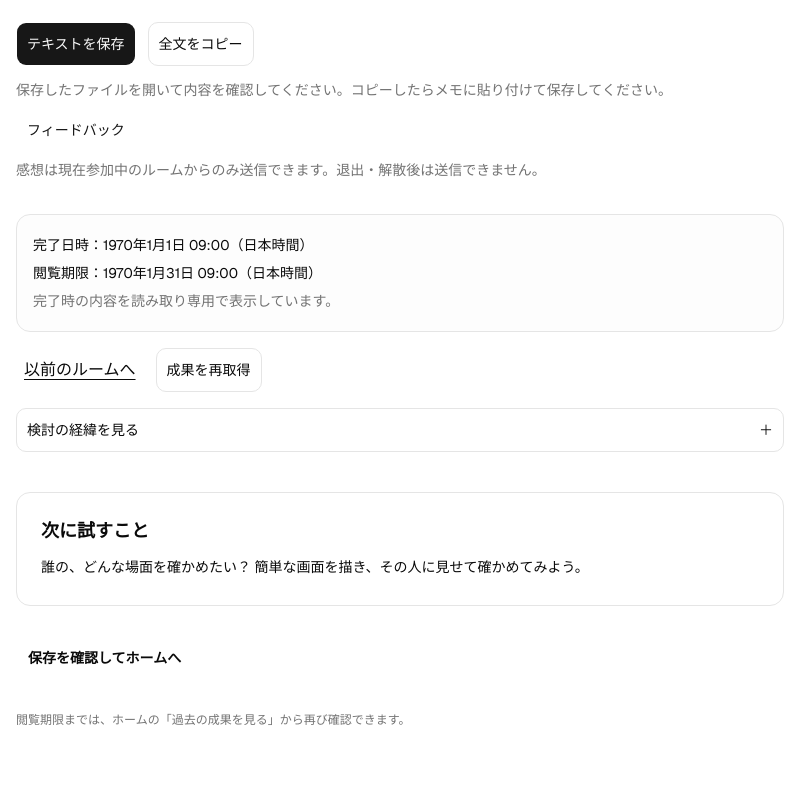
Scenario: 本人の完了ルーム › 3件を先に表示し、経緯を閉じ、通信の遅い旧選択で現在の本文を上書きしない
Check: the button "全文をコピー" is enabled, box x1=148 y1=22 x2=254 y2=66
Click the button "検討の経緯を見る ＋".
click(83, 430)  # box x1=16 y1=408 x2=784 y2=452
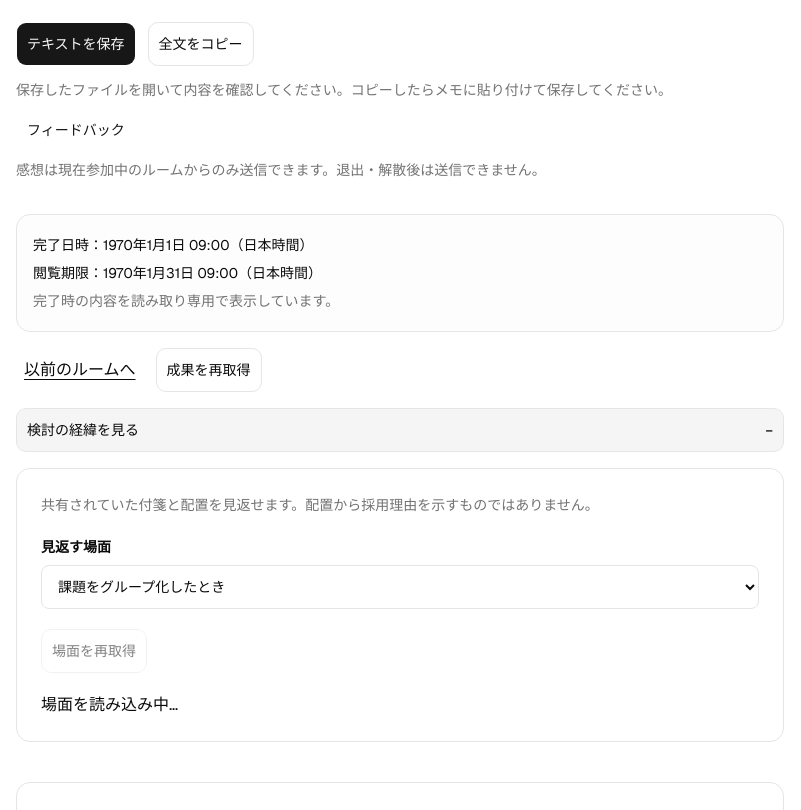
Check: the dropdown labelled "見返す場面" shows "課題をグループ化したとき"
Select "課題を決めたとき" in the dropdown at (400, 587), box x1=41 y1=565 x2=759 y2=609
(page scrolled)
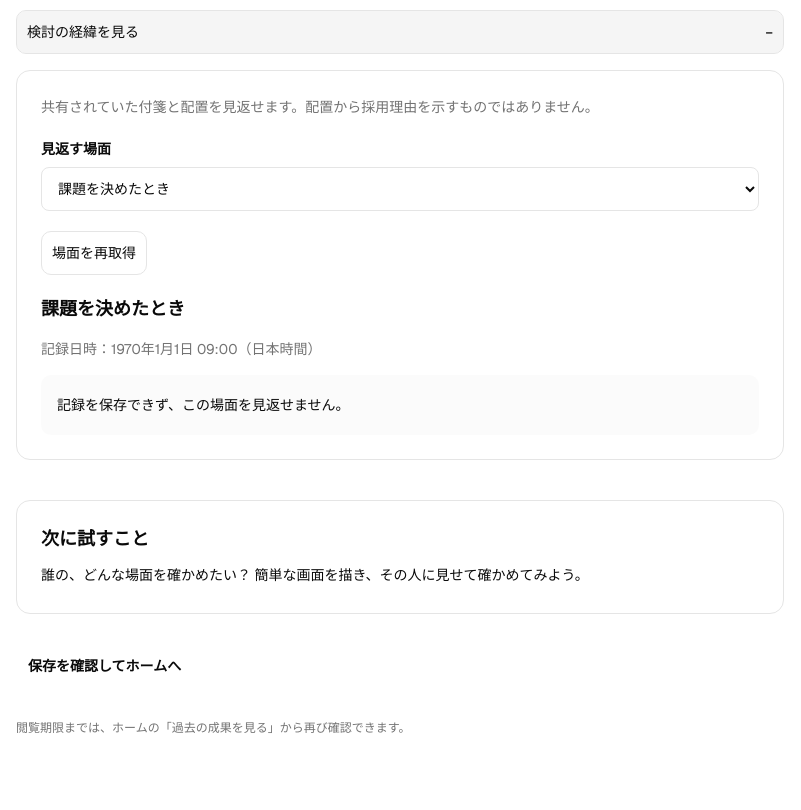
Check: the text "記録を保存できず、この場面を見返せません。" is shown, box x1=41 y1=375 x2=759 y2=435
